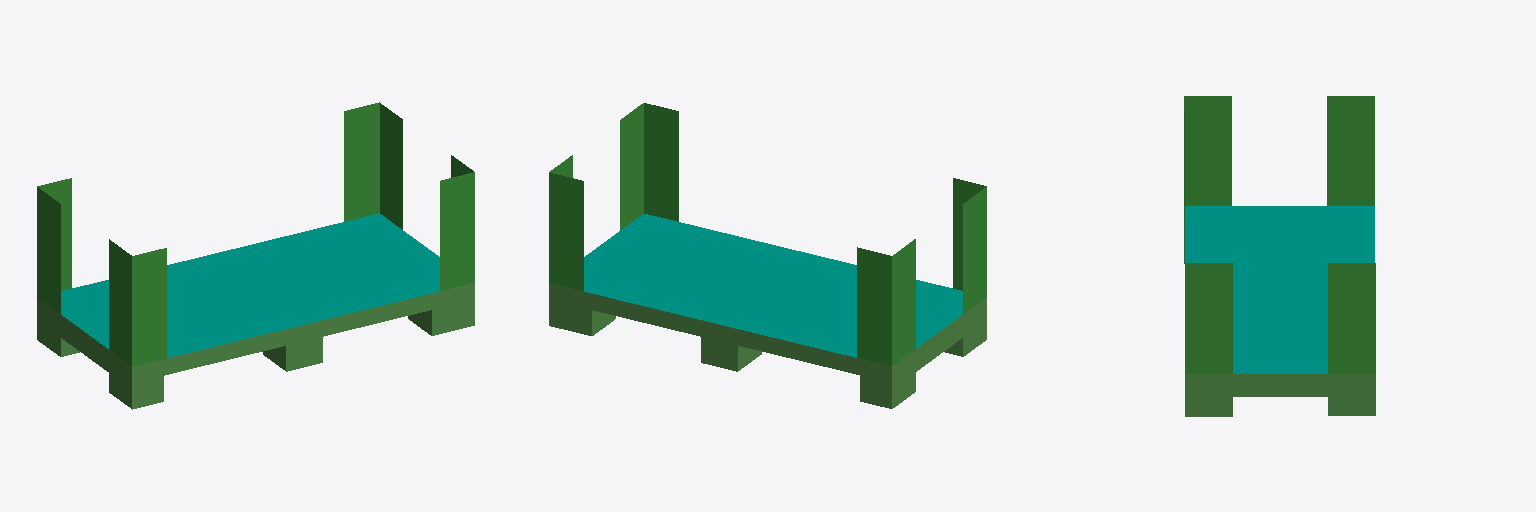
The model's file is bridge1.obj.
3 renders of one model, left to right at view 1: azimuth 30°, elevation 25°; view 2: azimuth 150°, elevation 25°; view 3: azimuth 270°, elevation 25°, orthographic.
Parts seen in each view (by area): view 1: Plane.005_Plane.003; view 2: Plane.005_Plane.003; view 3: Plane.005_Plane.003.
Part boxes in pixels (x1,y1,x2,y2): Plane.005_Plane.003: (37,102,474,409); Plane.005_Plane.003: (549,103,986,408); Plane.005_Plane.003: (1184,96,1375,416).
Bounding box in the file's own units: 389 × 166 × 188.